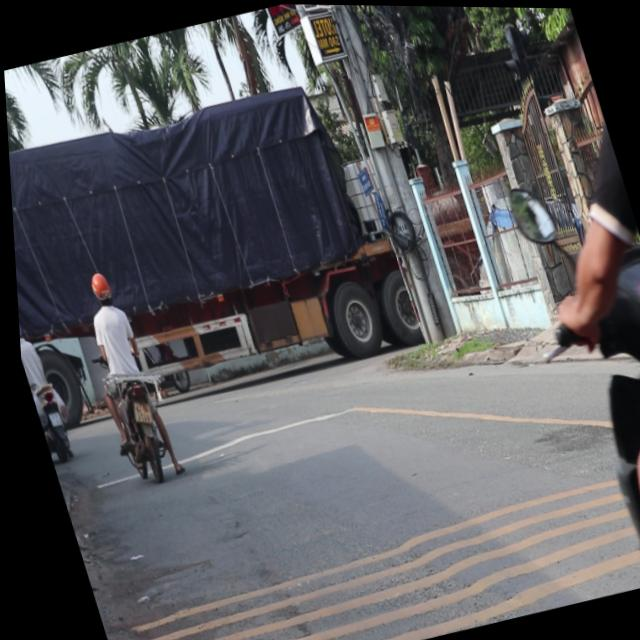helmet: (84, 268, 113, 308)
licenseplate: (62, 263, 181, 488)
nohelmet: (124, 397, 149, 425)
